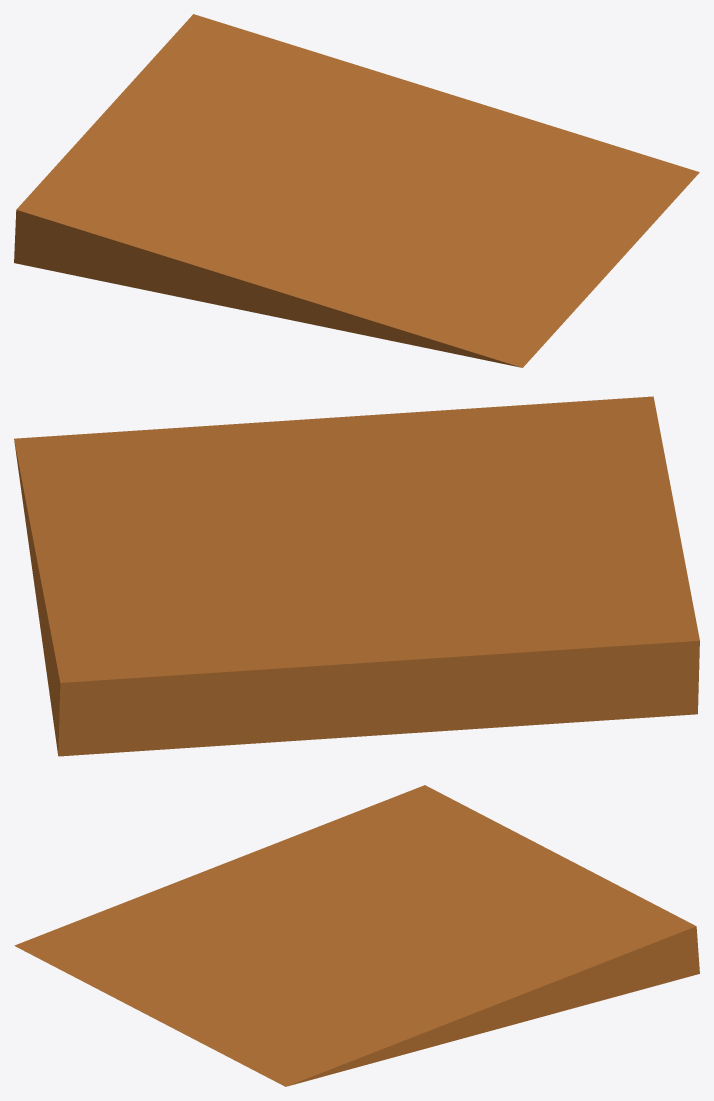
The model's file is copper_hatchet_head.glb.
3 views of the same model, one above another, from view 1: azimuth 30°, elevation 25°; view 2: azimuth 150°, elevation 25°; view 3: azimuth 270°, elevation 25° (orthographic). The views are drawn at different scales.
Visible parts, largest first — view 1: copper_hatchet_head; view 2: copper_hatchet_head; view 3: copper_hatchet_head.
Boxes of the visible parts, box(x1,y1,x2,y2) form: copper_hatchet_head: box(14, 14, 699, 367); copper_hatchet_head: box(14, 396, 699, 756); copper_hatchet_head: box(14, 785, 699, 1086).
Bounding box in the file's own units: 0.1601 × 0.014 × 0.1805.
